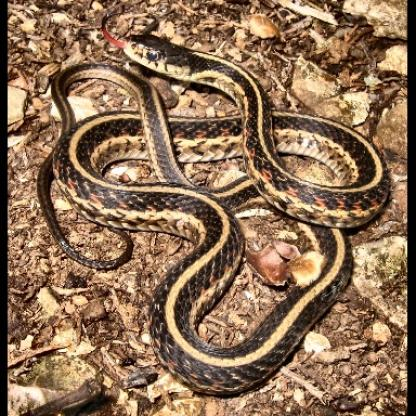Snake: (36, 21, 392, 404)
